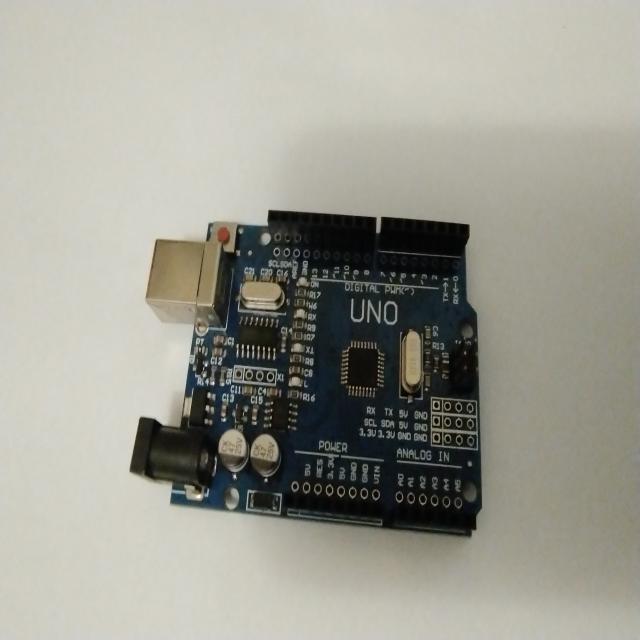arduino: (118, 201, 488, 545)
